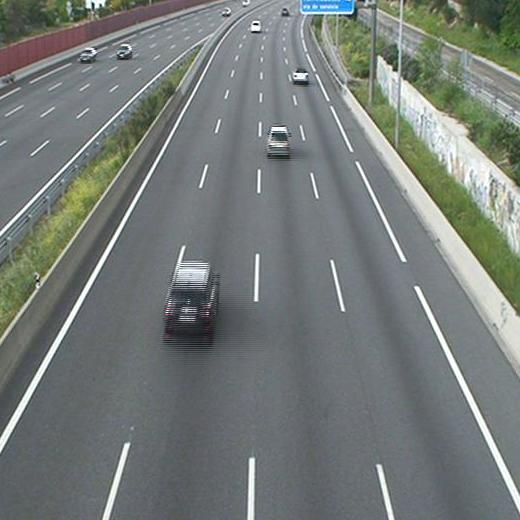car: (163, 261, 218, 346), (267, 125, 292, 159), (292, 67, 310, 85), (249, 20, 262, 33)
